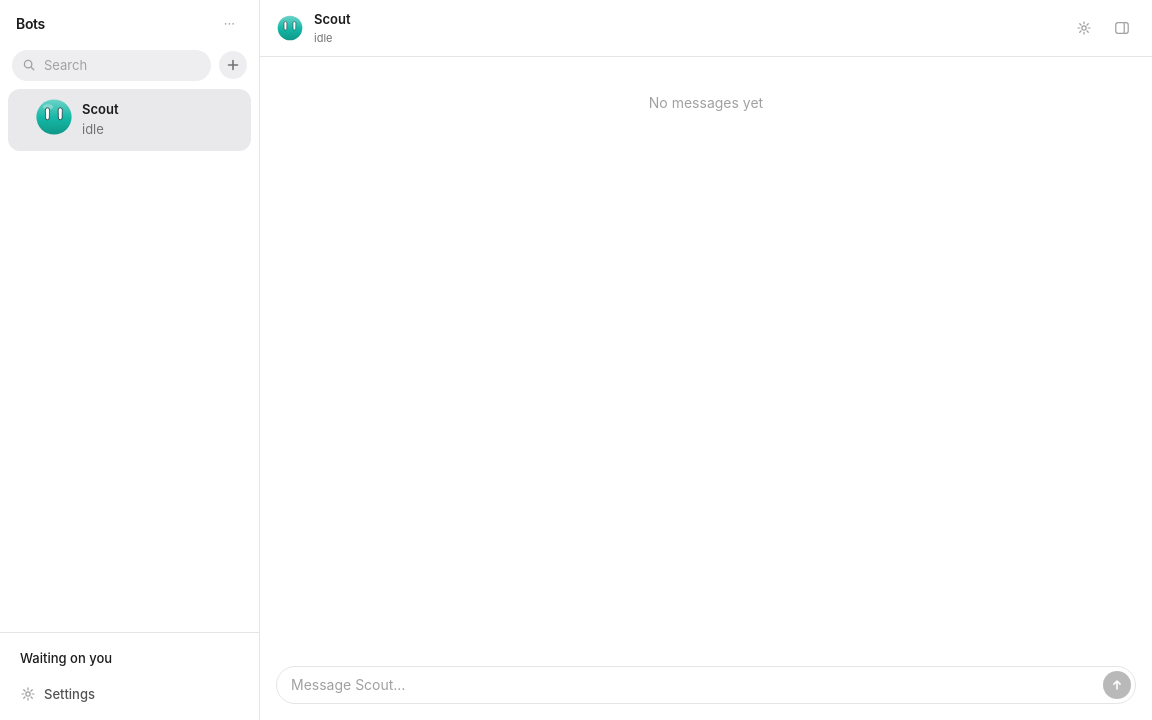
App › toggles the detail panel from the chat header
Click the button named "Toggle details" at (1122, 28), box [1108,14,1136,42]
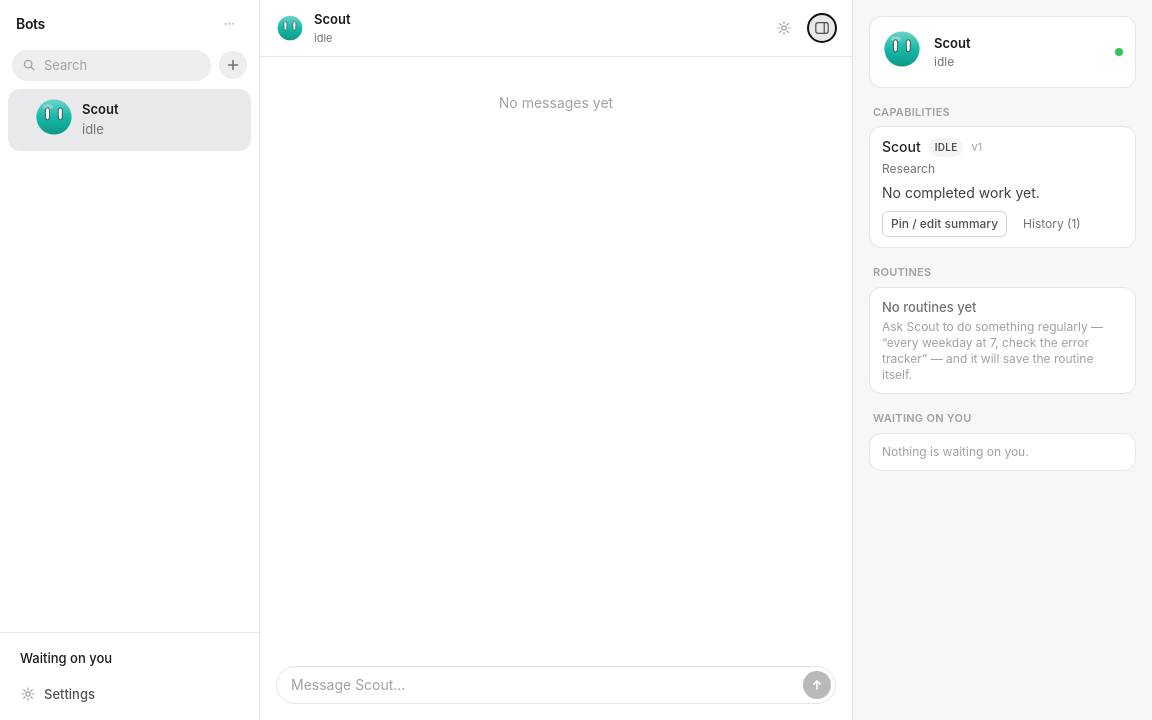
Now the heading "Routines" is shown, box [873,265,931,279]
Now the text with test id "detail-session-status" is shown, box [934,54,954,68]
Now the element with test id "capability-card-current" is shown, box [869,126,1136,248]
Click the button named "Toggle details" at (822, 28), box [808,14,836,42]
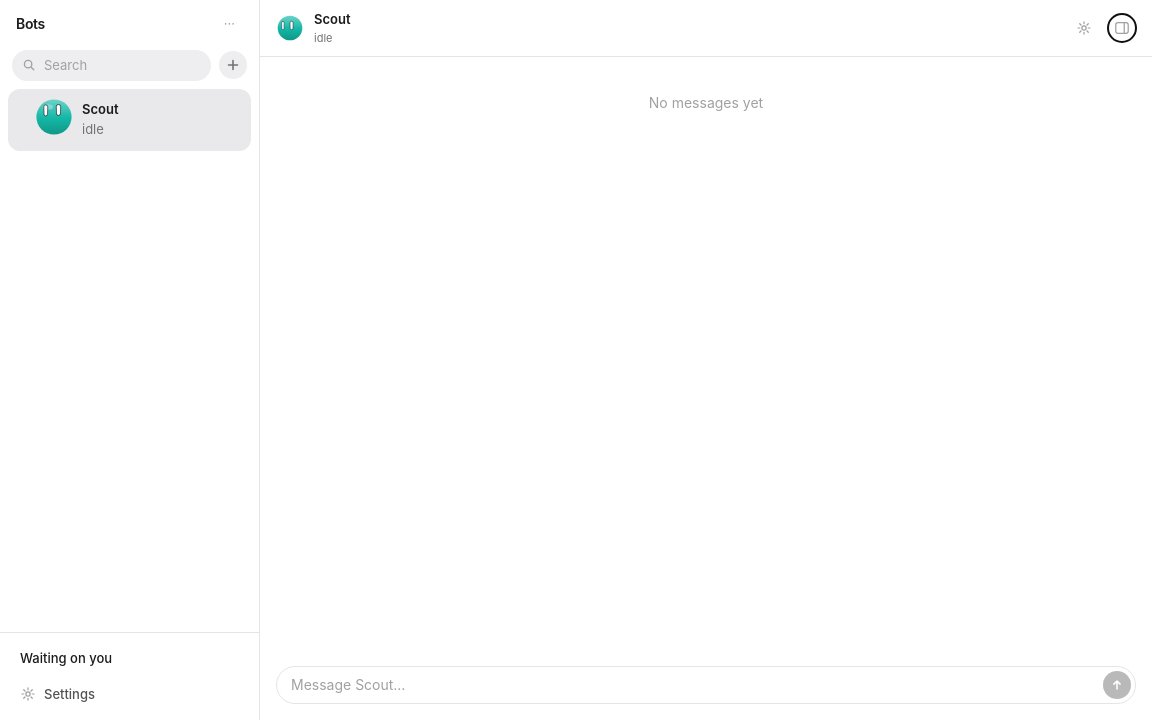
Now the element with test id "detail-panel" is gone
